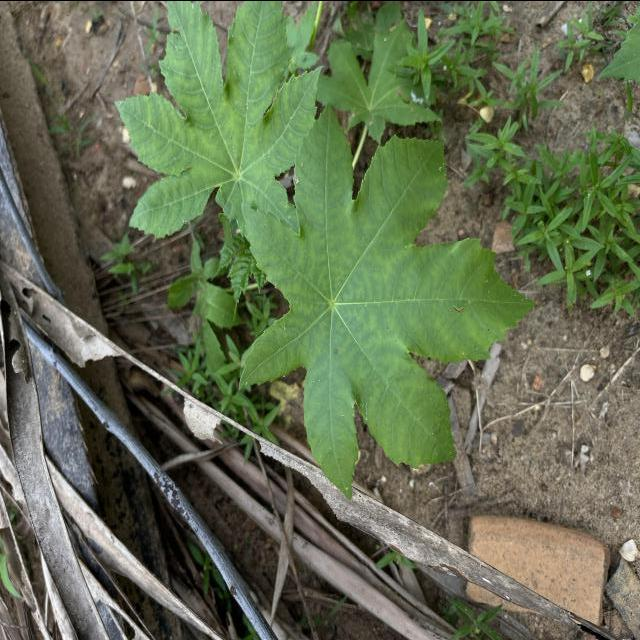Ricinus communis linn: (230, 100, 541, 503), (110, 0, 326, 248)
